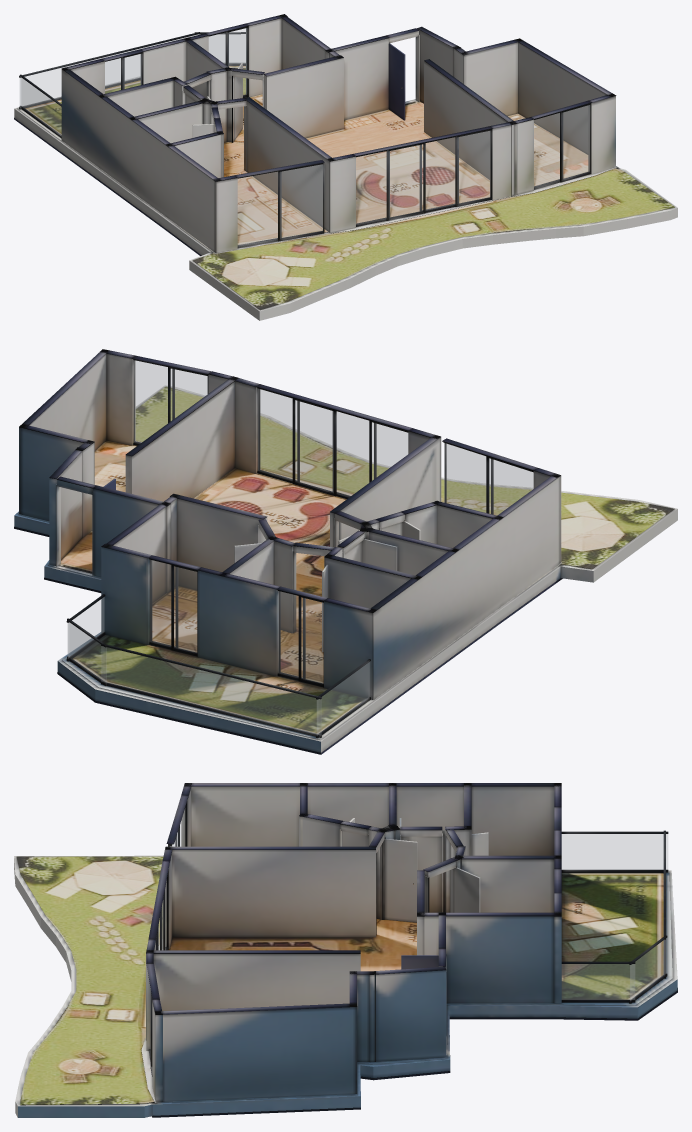
The picture shows the model from 3 angles, top to bottom: view 1: azimuth 30°, elevation 25°; view 2: azimuth 150°, elevation 25°; view 3: azimuth 270°, elevation 25°; orthographic projection. The views are drawn at different scales.
Parts seen in each view (by area): view 1: plan, glass2_m, glass4_m, glass3_m, railg0_m, railg3_m, glass1_m, glass0_m, railg1_m; view 2: plan, glass2_m, railg0_m, glass4_m, glass3_m, glass1_m, glass0_m, railg3_m, railg1_m, railg2_m; view 3: plan, railg3_m, railg2_m, railg1_m.
Part boxes in pixels (x1=…): plan: x1=14, y1=14, x2=677, y2=320; glass2_m: x1=356, y1=131, x2=490, y2=224; glass4_m: x1=238, y1=164, x2=322, y2=245; glass3_m: x1=534, y1=105, x2=589, y2=187; railg0_m: x1=19, y1=34, x2=198, y2=106; railg3_m: x1=21, y1=78, x2=61, y2=134; glass1_m: x1=209, y1=28, x2=246, y2=95; glass0_m: x1=105, y1=54, x2=141, y2=93; railg1_m: x1=195, y1=34, x2=245, y2=63; plan: x1=14, y1=349, x2=677, y2=754; glass2_m: x1=258, y1=389, x2=407, y2=496; railg0_m: x1=101, y1=646, x2=321, y2=734; glass4_m: x1=444, y1=443, x2=533, y2=515; glass3_m: x1=134, y1=360, x2=207, y2=443; glass1_m: x1=150, y1=560, x2=196, y2=652; glass0_m: x1=278, y1=591, x2=323, y2=683; railg3_m: x1=317, y1=662, x2=369, y2=735; railg1_m: x1=68, y1=622, x2=106, y2=682; railg2_m: x1=68, y1=597, x2=104, y2=658; plan: x1=14, y1=783, x2=677, y2=1117; railg3_m: x1=562, y1=834, x2=667, y2=869; railg2_m: x1=562, y1=964, x2=634, y2=999; railg1_m: x1=630, y1=938, x2=666, y2=1000.
Size of the model in its own units: 13.87 by 2.62 by 15.53.
Materials: 2 (1 with a texture image).
